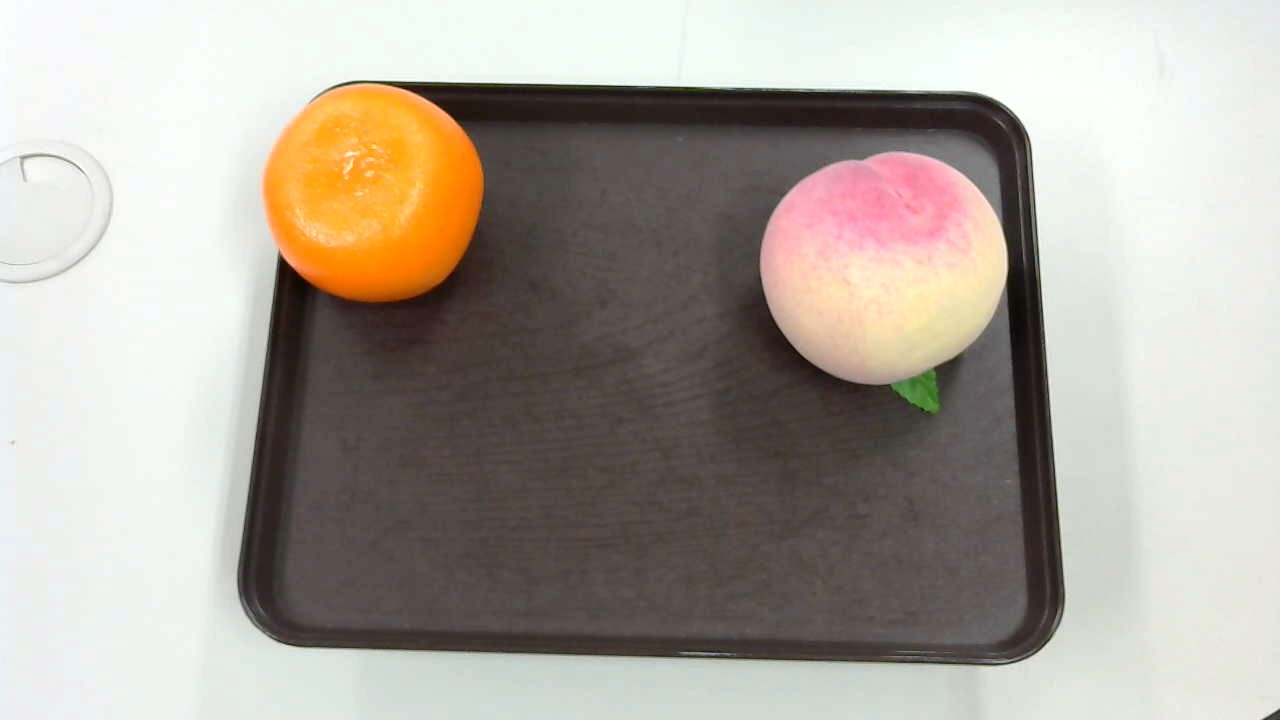orange: (266, 86, 489, 314)
peach: (756, 153, 1014, 418)
